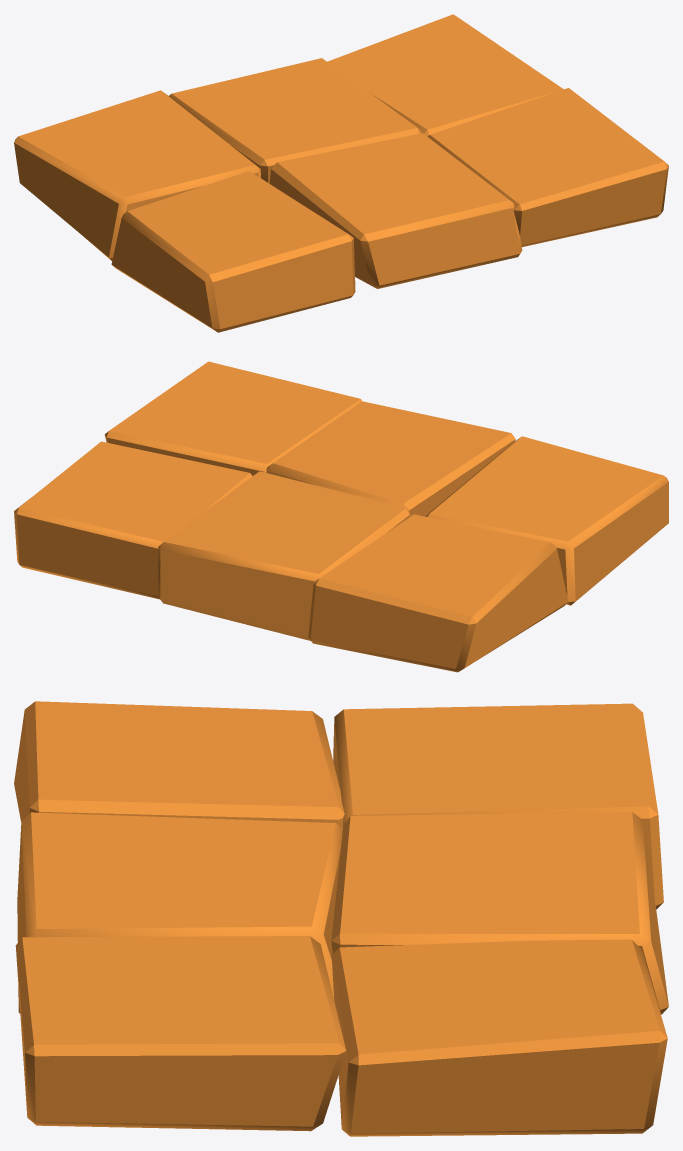
File: Platform_P5_Orange_Broken.fbx
3 renders of one model, top to bottom at view 1: azimuth 30°, elevation 25°; view 2: azimuth 150°, elevation 25°; view 3: azimuth 270°, elevation 25°, orthographic. The views are drawn at different scales.
Visible parts, largest first — view 1: P5_Chunk_00, P5_Chunk_10, P5_Chunk_20, P5_Chunk_01, P5_Chunk_11, P5_Chunk_21; view 2: P5_Chunk_01, P5_Chunk_11, P5_Chunk_21, P5_Chunk_00, P5_Chunk_20, P5_Chunk_10; view 3: P5_Chunk_21, P5_Chunk_20, P5_Chunk_11, P5_Chunk_10, P5_Chunk_00, P5_Chunk_01.
Boxes of the visible parts, left/top/right/bottom form: P5_Chunk_00: left=111, top=171, right=355, bottom=332; P5_Chunk_10: left=269, top=133, right=522, bottom=288; P5_Chunk_20: left=428, top=88, right=668, bottom=246; P5_Chunk_01: left=14, top=90, right=260, bottom=260; P5_Chunk_11: left=169, top=58, right=421, bottom=183; P5_Chunk_21: left=327, top=14, right=563, bottom=136; P5_Chunk_01: left=308, top=514, right=568, bottom=672; P5_Chunk_11: left=158, top=471, right=409, bottom=640; P5_Chunk_21: left=14, top=441, right=252, bottom=599; P5_Chunk_00: left=425, top=436, right=668, bottom=605; P5_Chunk_20: left=104, top=361, right=361, bottom=475; P5_Chunk_10: left=266, top=401, right=515, bottom=517; P5_Chunk_21: left=331, top=939, right=667, bottom=1136; P5_Chunk_20: left=15, top=936, right=346, bottom=1131; P5_Chunk_11: left=331, top=812, right=668, bottom=1014; P5_Chunk_10: left=17, top=812, right=342, bottom=1013; P5_Chunk_00: left=14, top=701, right=344, bottom=829; P5_Chunk_01: left=333, top=703, right=663, bottom=909.
Size of the model in its own units: 1.84 by 0.2561 by 1.43.
